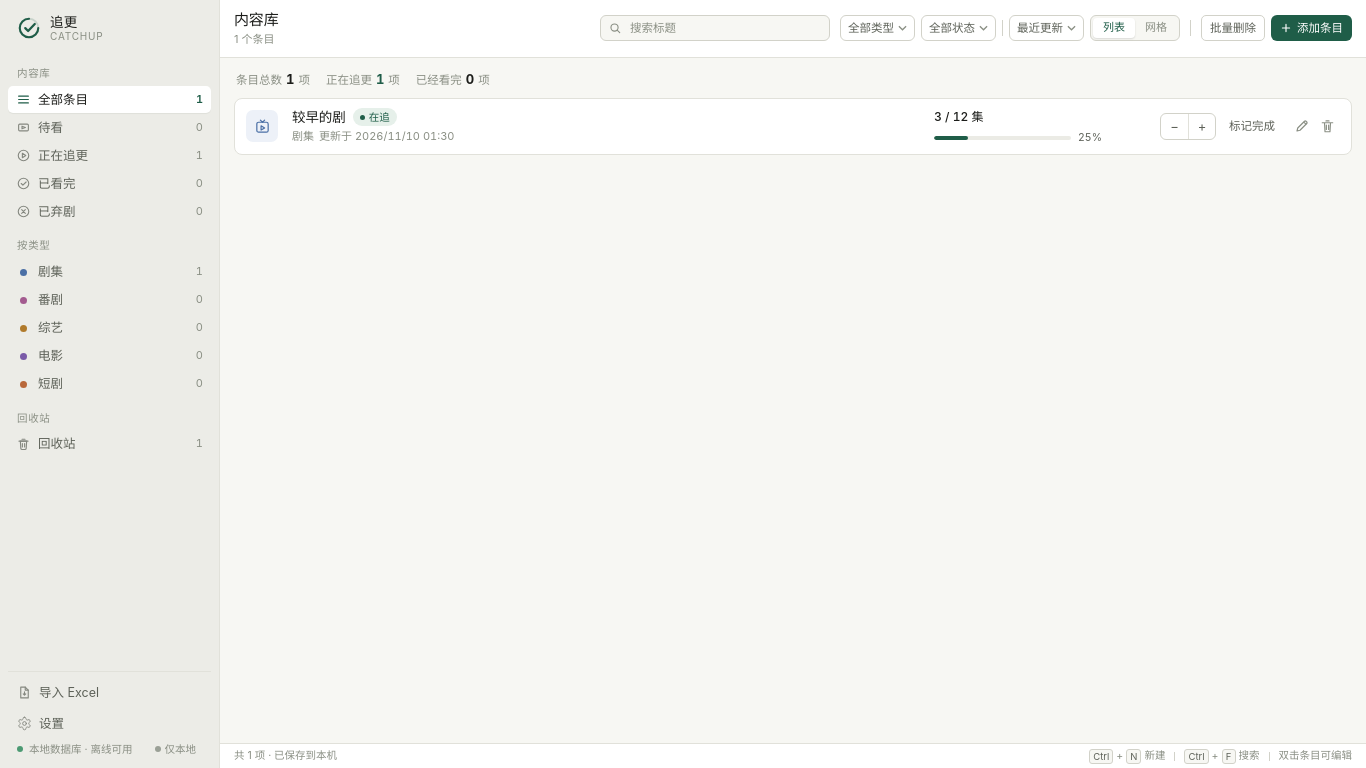
回收站 › 恢复条目后从回收站移除，并按更新时间回到主库
Expected: the element "较早的剧" is shown, [234,98,1352,155]
Click the button "回收站 1" at {"x": 110, "y": 444}, box [8,431,211,458]
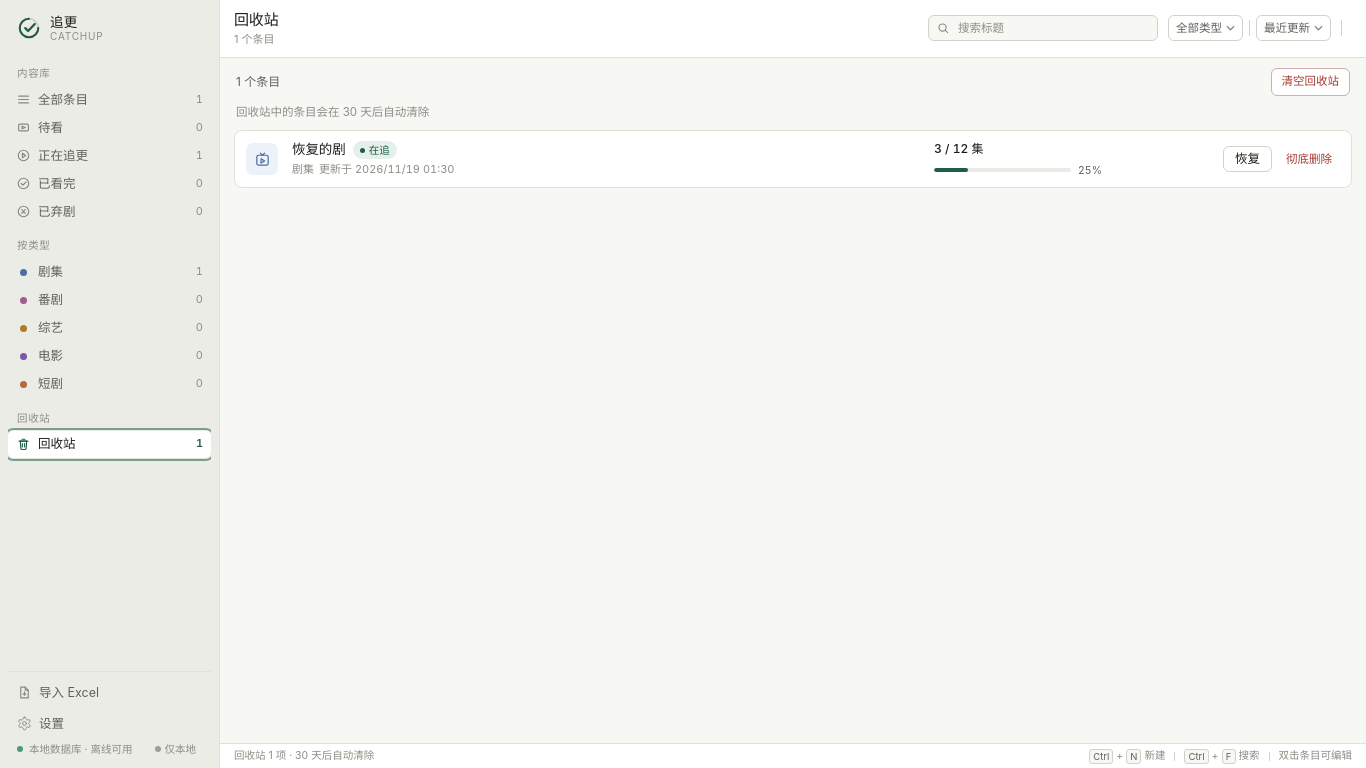
Click the button with aria-label "恢复《恢复的剧》" at {"x": 1248, "y": 159}, box [1223,146,1272,172]
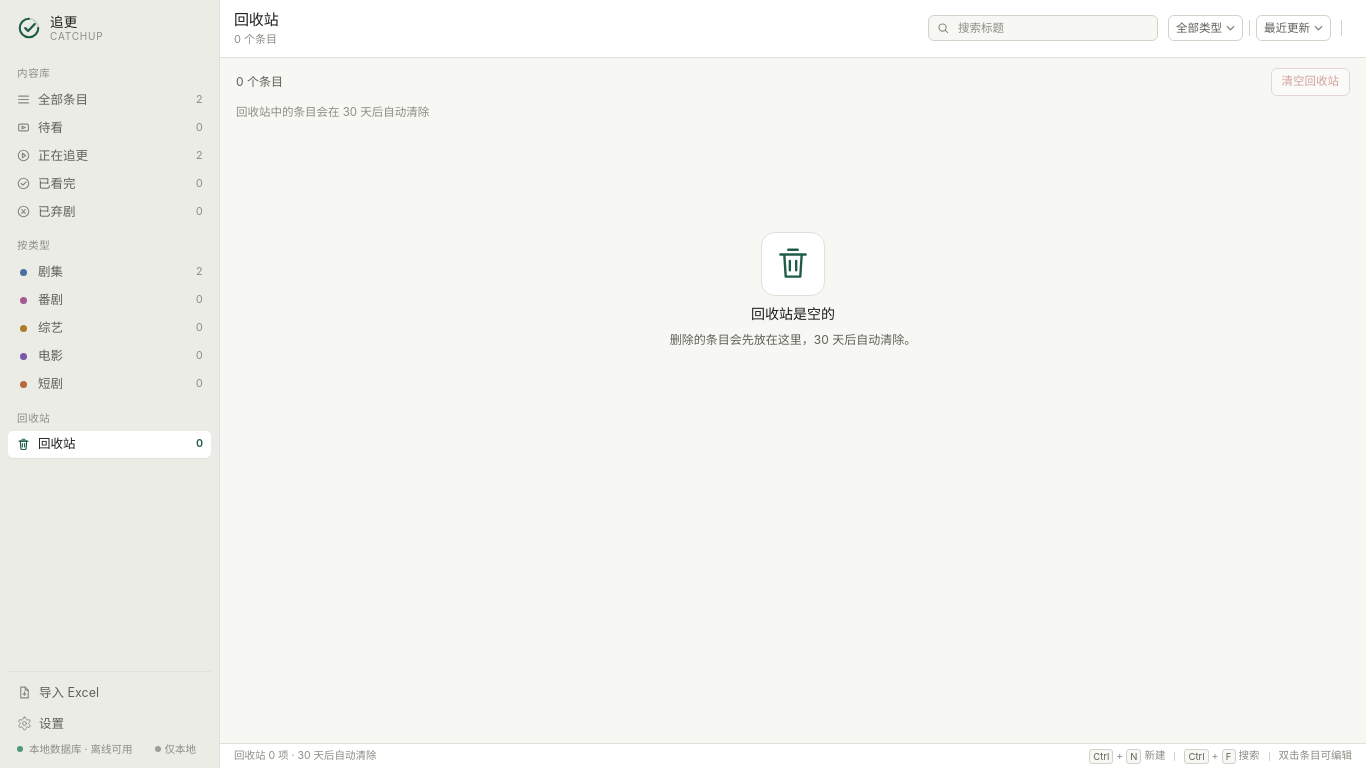
Expected: the heading "回收站是空的" is shown, [751,304,835,324]
Expected: the list "回收站列表" is gone
Expected: the button "回收站 0" is shown, [8,431,211,458]
Click the button "全部条目 2" at {"x": 110, "y": 100}, box [8,86,211,113]
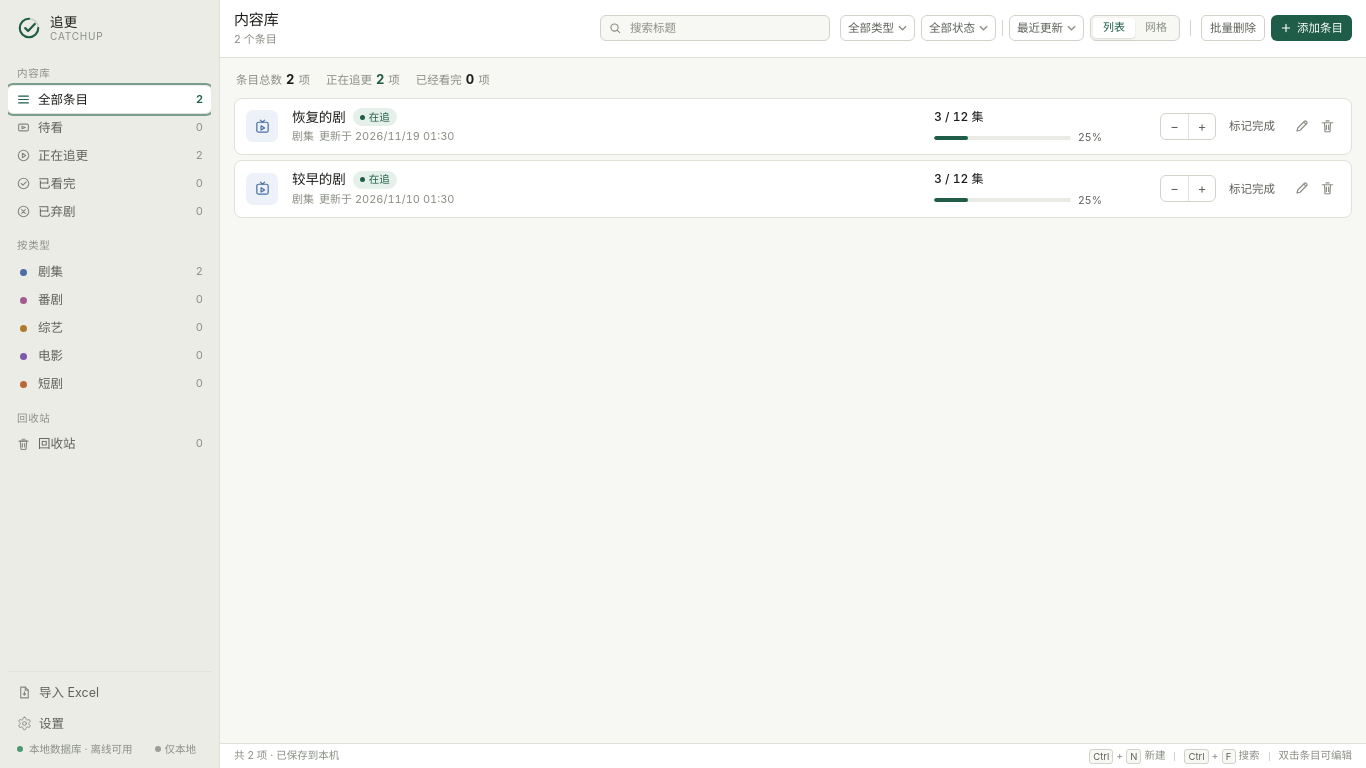
Expected: the element showing "恢复的剧 在追 剧集 更新于 2026/11/19 01:30 3 / 12 集 25% − + 标记完成" is shown, [234,98,1352,155]
Expected: the element showing "较早的剧 在追 剧集 更新于 2026/11/10 01:30 3 / 12 集 25% − + 标记完成" is shown, [234,160,1352,218]
